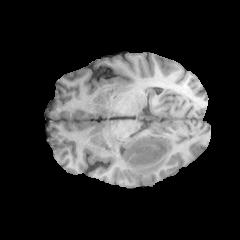glioma: (120, 134, 175, 181)
